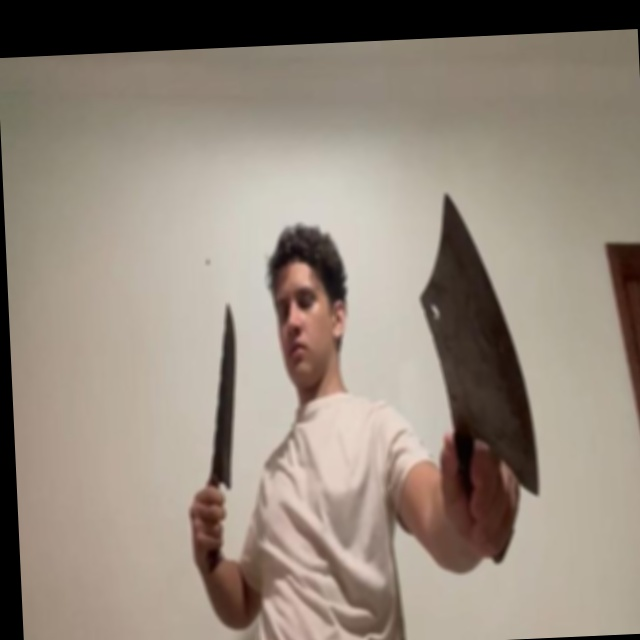Sharp-Object: (413, 190, 540, 499), (204, 301, 241, 488)
